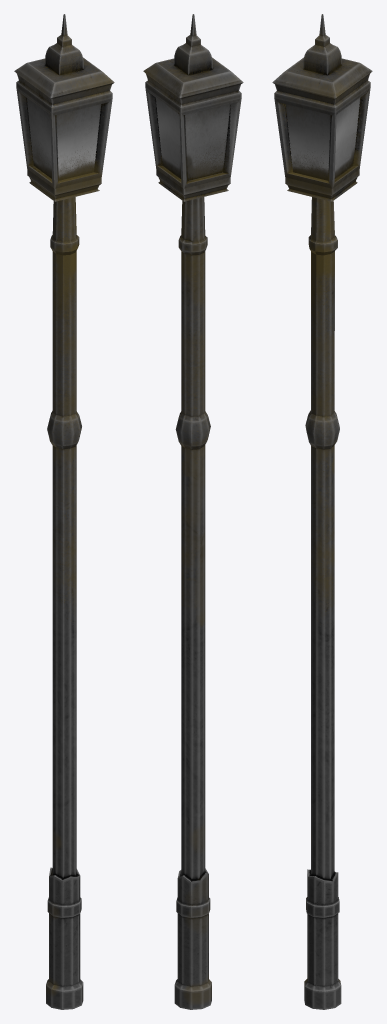
The model's file is lantern_01.fbx.
3 renders of one model, left to right at view 1: azimuth 30°, elevation 25°; view 2: azimuth 210°, elevation 25°; view 3: azimuth 330°, elevation 25°, orthographic.
Visible parts, largest first — view 1: lantern_01; view 2: lantern_01; view 3: lantern_01.
Part boxes in pixels (x1,y1,x2,y2): lantern_01: (14,14,114,1009); lantern_01: (143,14,243,1009); lantern_01: (272,14,372,1009).
Bounding box in the file's own units: 16.58 × 245 × 16.58.
Materials: 1 (1 with a texture image).
